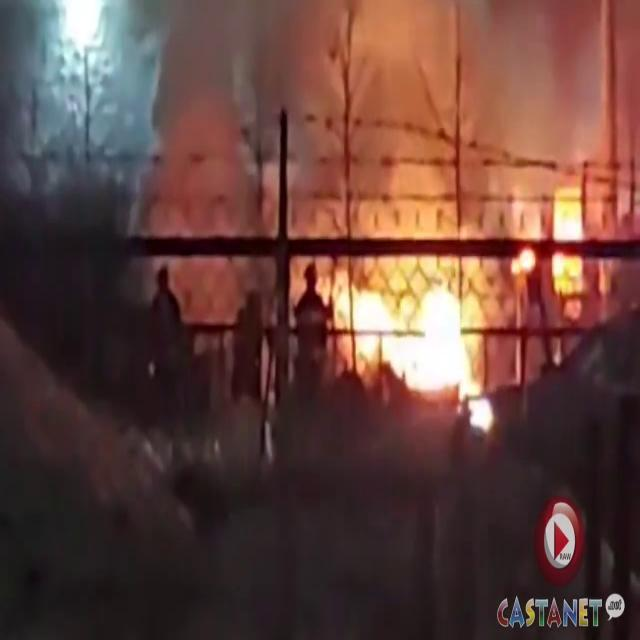Fire: (318, 230, 516, 422)
Smoke: (125, 0, 631, 205)
